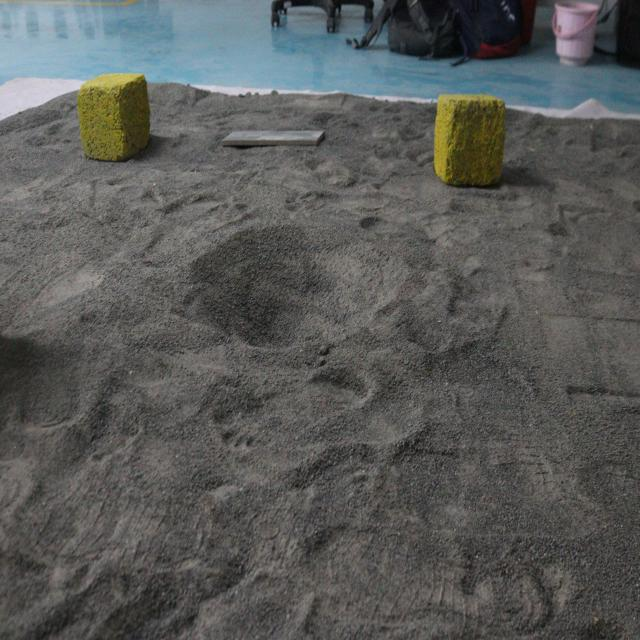box: (434, 87, 512, 189), (77, 72, 152, 166)
crater: (182, 216, 424, 358)
